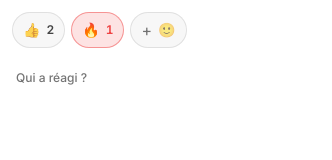
ReactionBar › shows why the list could not be read
Click the button "Qui a réagi ?". click: [52, 78]
box: x1=12 y1=56 x2=91 y2=100
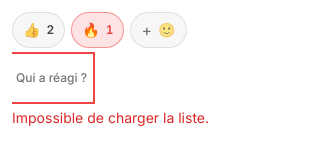
Expected: the message shows "Impossible de charger", x1=12 y1=109 x2=209 y2=126
